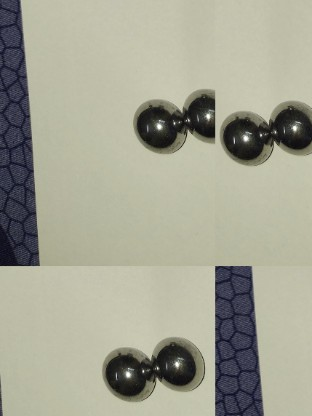ironball: (96, 336, 158, 406), (130, 95, 189, 158), (221, 108, 277, 171), (155, 334, 205, 391), (270, 98, 310, 157), (179, 86, 217, 144)
